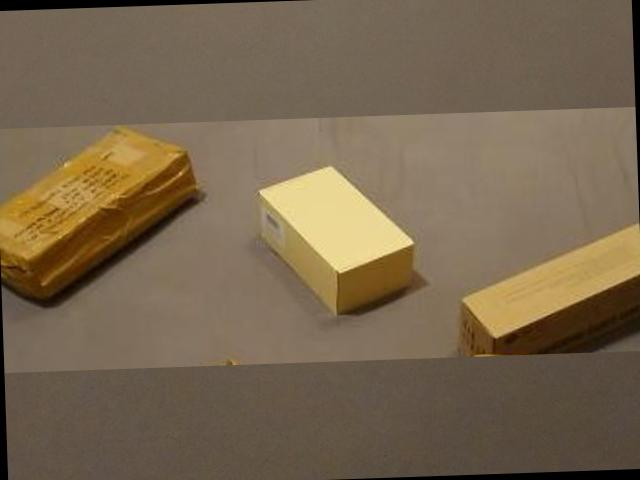Kertas: (460, 224, 640, 354), (460, 225, 640, 354)
